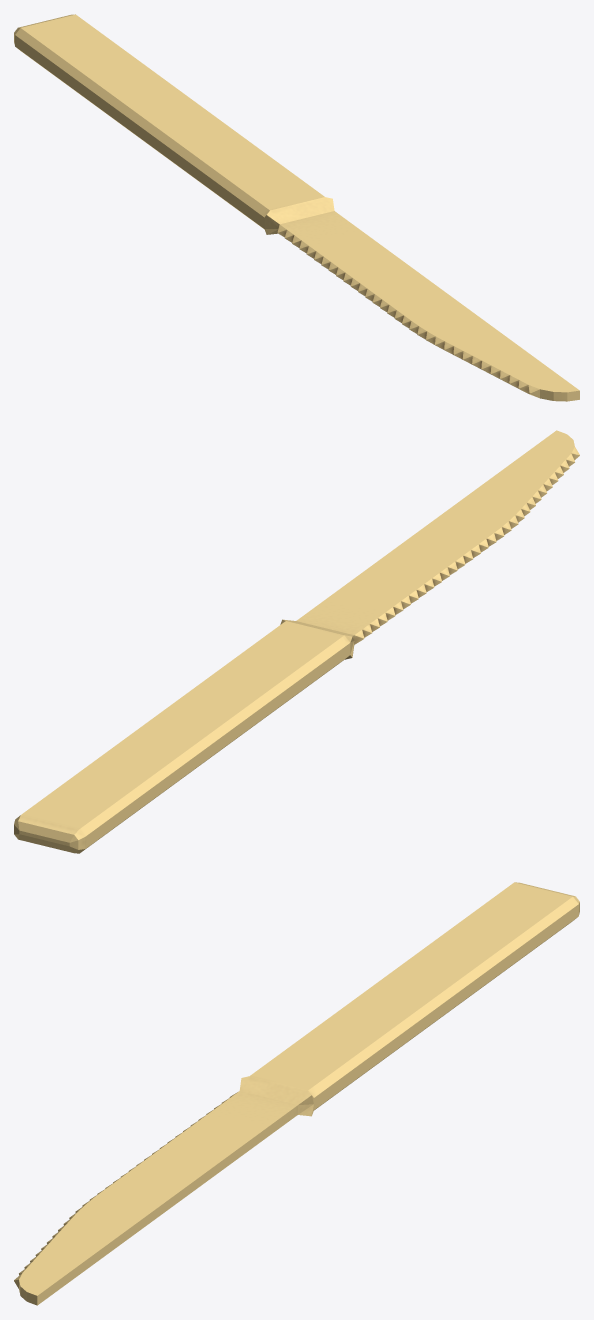
The model's file is fbx_Faca.fbx.
The picture shows the model from 3 angles, top to bottom: view 1: azimuth 30°, elevation 25°; view 2: azimuth 150°, elevation 25°; view 3: azimuth 330°, elevation 25°; orthographic projection. The views are drawn at different scales.
Parts seen in each view (by area): view 1: polySurface66; view 2: polySurface66; view 3: polySurface66.
Boxes of the visible parts, x1=… form: polySurface66: x1=14, y1=14, x2=579, y2=401; polySurface66: x1=14, y1=430, x2=579, y2=853; polySurface66: x1=14, y1=882, x2=579, y2=1305.
Size of the model in its own units: 0.015 by 0.005 by 0.2.
Materials: 1 (1 with a texture image).
